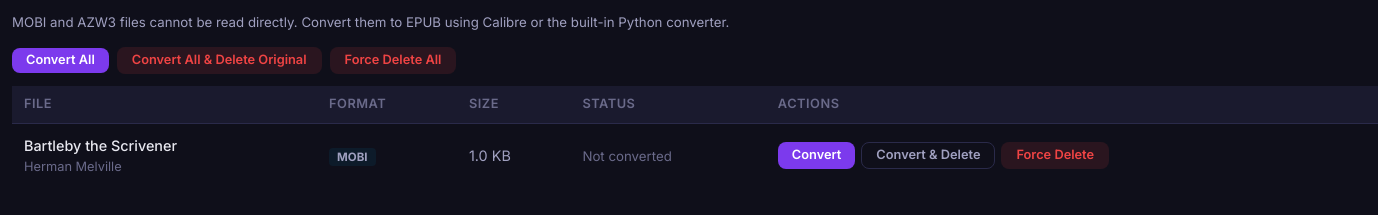
Test: UnsupportedFilesPanel — sync map after conversion › reports success plainly when the pair was re-aligned
The image size is (1378, 215).
Expected: the text "Bartleby the Scrivener" is shown, [24,136,177,154]
Click the button "Convert & Delete".
click(928, 155)  # box [861,142,995,169]
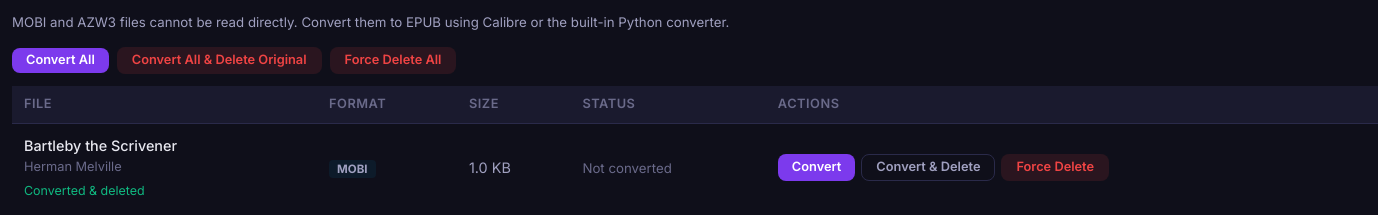
Result: the text "Converted & deleted" is shown at [24,183,145,198]
